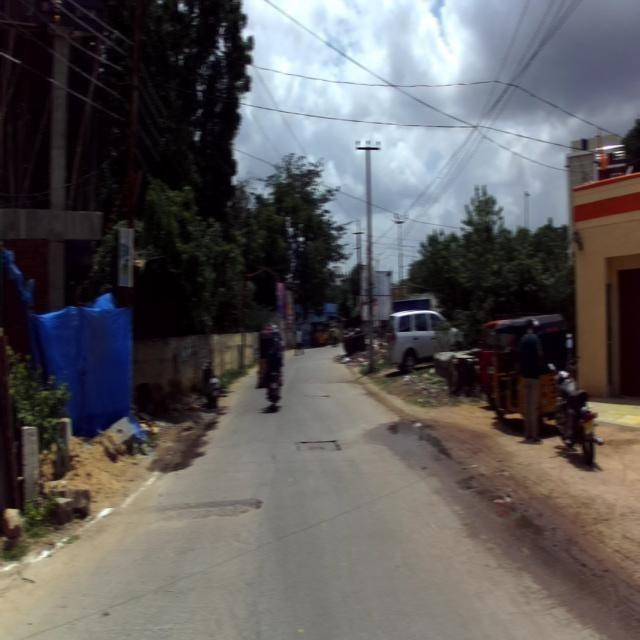Pothole: (136, 494, 272, 529), (290, 428, 348, 459)
